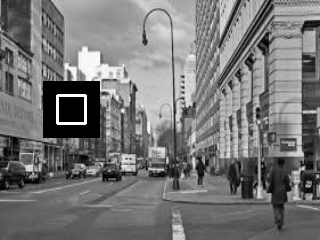square: (43, 81, 101, 138)
